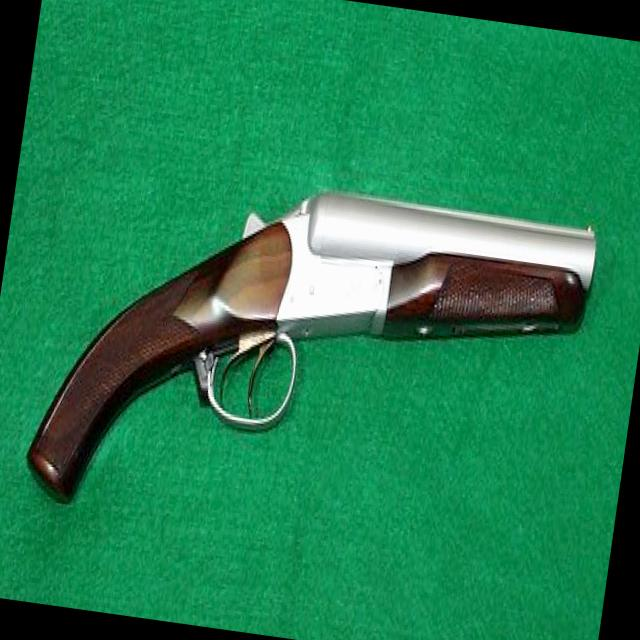shotgun: (10, 98, 624, 622)
